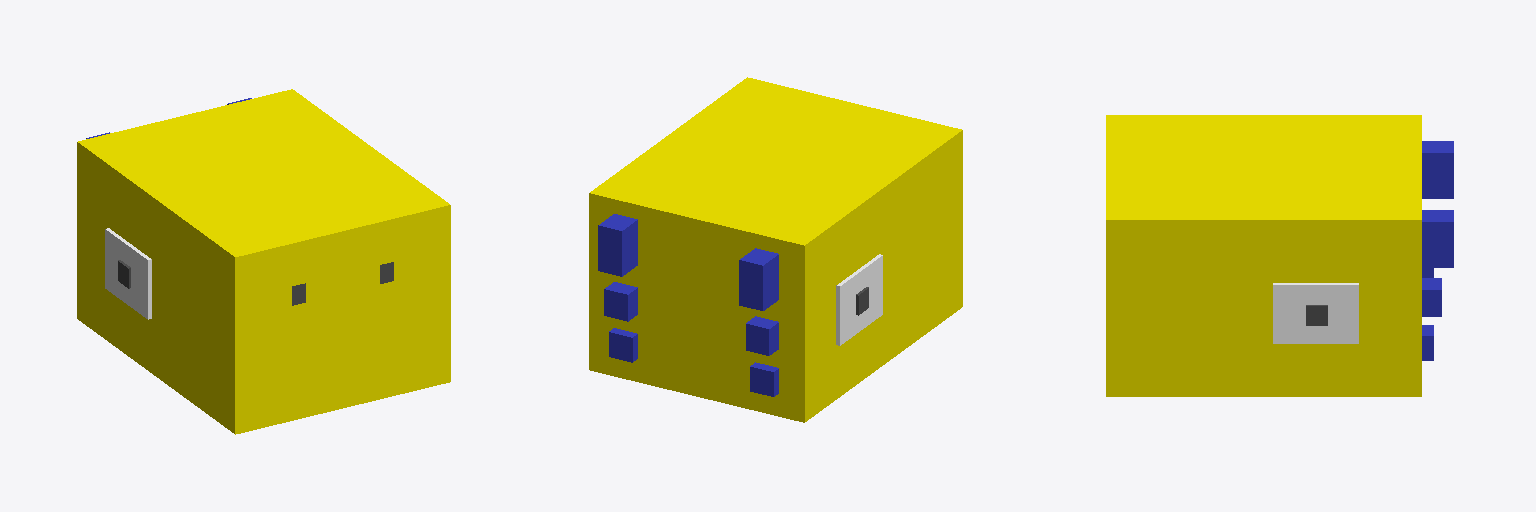
3 views of the same model, side by side, from view 1: azimuth 30°, elevation 25°; view 2: azimuth 150°, elevation 25°; view 3: azimuth 270°, elevation 25° (orthographic).
Parts seen in each view (by area): view 1: polySurface30; view 2: polySurface30; view 3: polySurface30.
Boxes of the visible parts, box(x1,y1,x2,y2) form: polySurface30: box(77, 89, 450, 434); polySurface30: box(589, 77, 962, 422); polySurface30: box(1106, 115, 1453, 396).
Bounding box in the file's own units: 2.97 × 2.2 × 3.92.
1 materials, 1 textured.